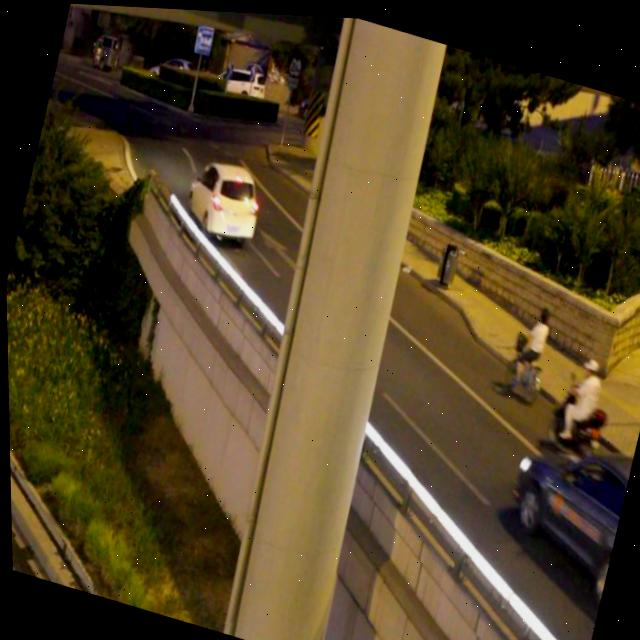car: (490, 413, 635, 592), (176, 148, 268, 246)
